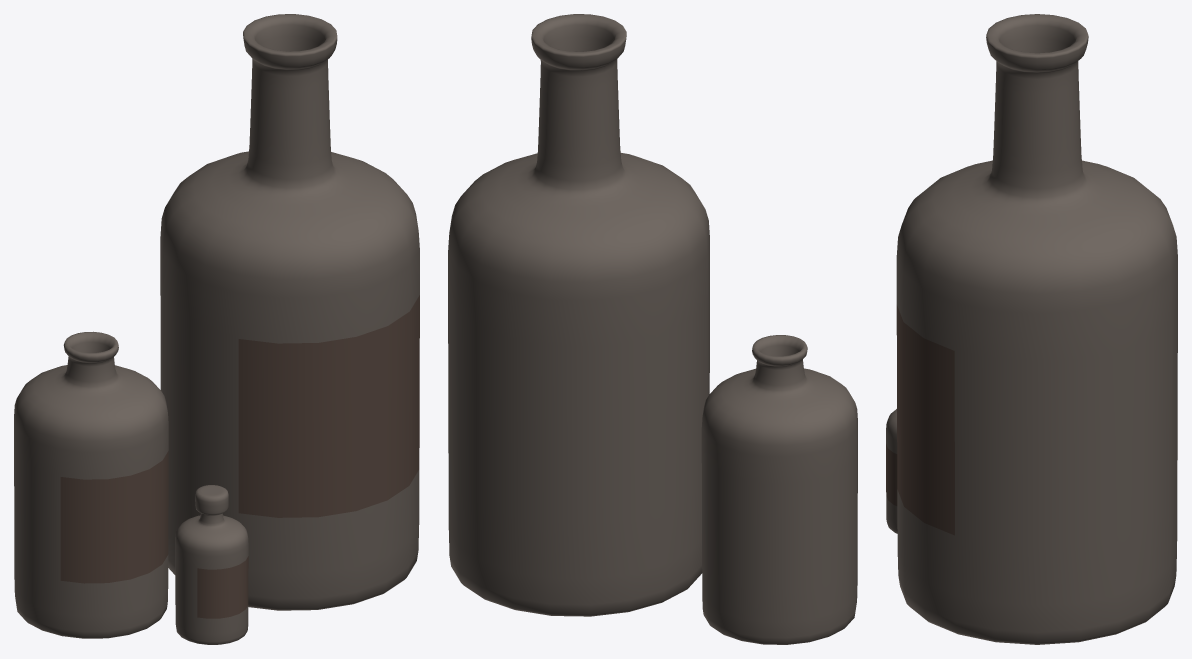
The model's file is BrownBottles.fbx.
3 views of the same model, side by side, from view 1: azimuth 30°, elevation 25°; view 2: azimuth 150°, elevation 25°; view 3: azimuth 270°, elevation 25° (orthographic). The views are drawn at different scales.
Visible parts, largest first — view 1: SmallBeaker.004, SmallBeaker.005, SmallBeaker.006; view 2: SmallBeaker.004, SmallBeaker.005; view 3: SmallBeaker.004, SmallBeaker.006.
Part boxes in pixels (<box>): SmallBeaker.004: <box>160,14,419,610</box>; SmallBeaker.005: <box>14,331,168,638</box>; SmallBeaker.006: <box>175,485,248,644</box>; SmallBeaker.004: <box>448,14,709,616</box>; SmallBeaker.005: <box>701,335,857,644</box>; SmallBeaker.004: <box>896,14,1177,644</box>; SmallBeaker.006: <box>886,409,897,533</box>.
Bounding box in the file's own units: 18.55 × 24.69 × 11.72.
